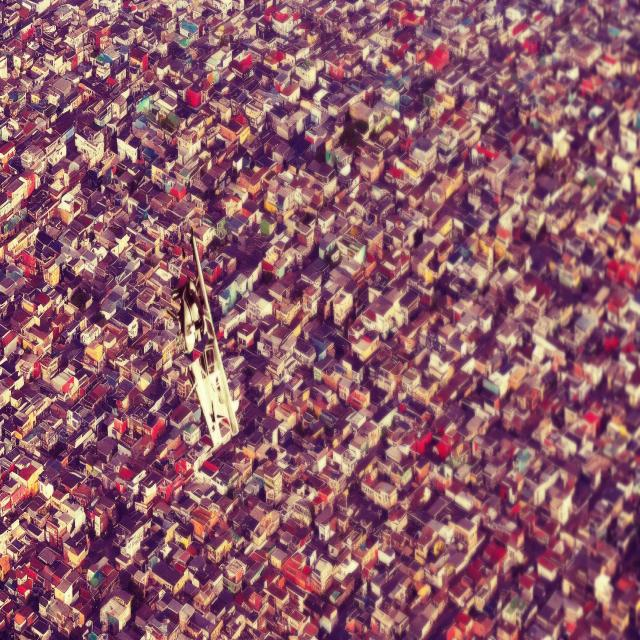airplane: (175, 226, 241, 452)
